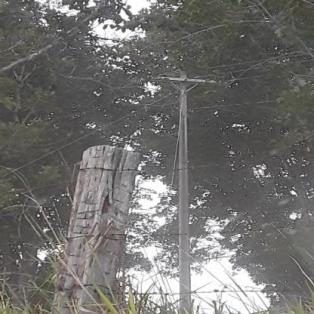Poste: (174, 69, 190, 314)
